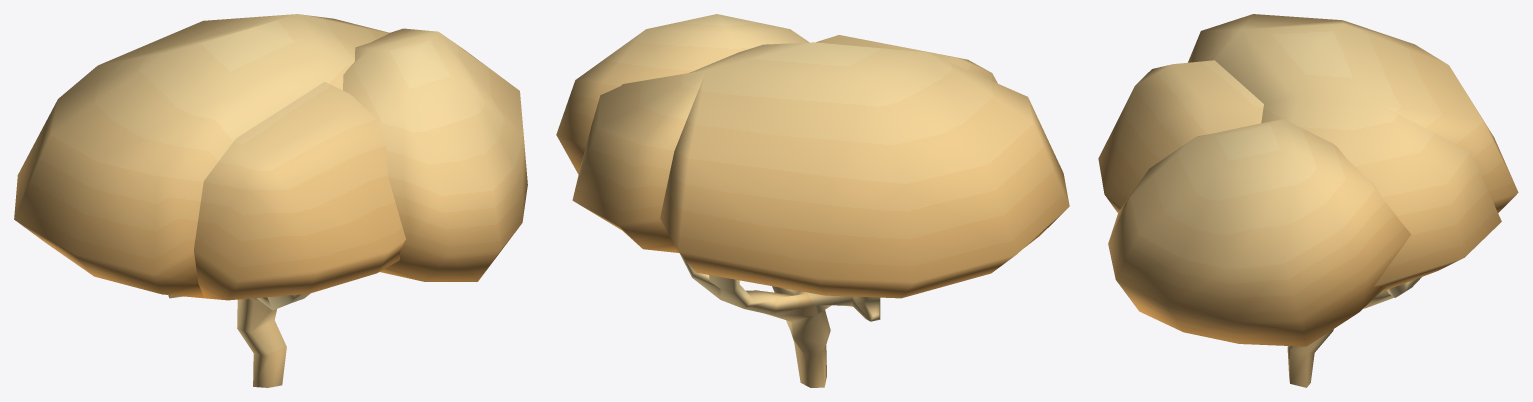
The model's file is CoralLB.fbx.
3 renders of one model, left to right at view 1: azimuth 30°, elevation 25°; view 2: azimuth 150°, elevation 25°; view 3: azimuth 270°, elevation 25°, orthographic. The views are drawn at different scales.
Visible parts, largest first — view 1: CoralLB; view 2: CoralLB; view 3: CoralLB.
Boxes of the visible parts, box(x1,y1,x2,y2) form: CoralLB: box(14, 14, 527, 387); CoralLB: box(556, 14, 1069, 387); CoralLB: box(1098, 14, 1518, 387).
Size of the model in its own units: 108 by 75.92 by 85.75.
Materials: 1 (1 with a texture image).
